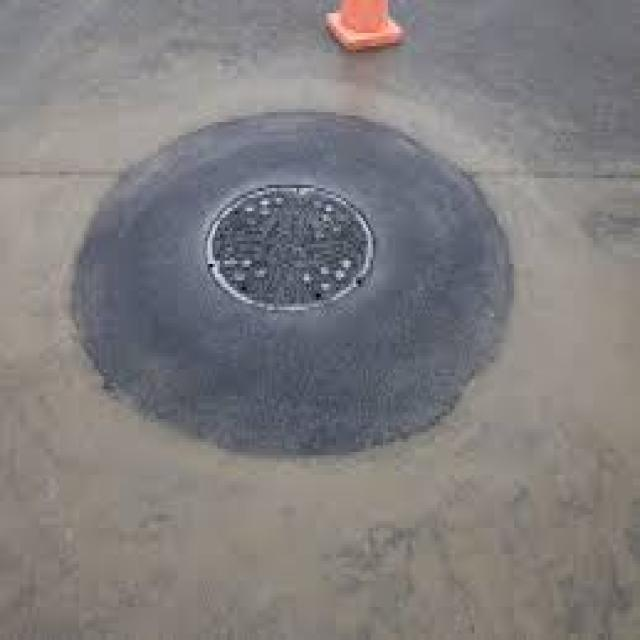manhole: (203, 183, 374, 311)
